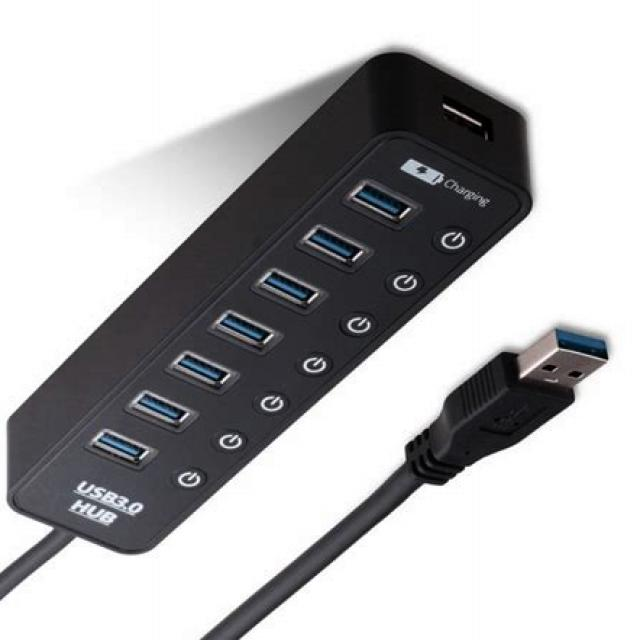usb port: (423, 94, 507, 147), (352, 180, 411, 230), (92, 429, 148, 477), (265, 272, 319, 320), (170, 352, 224, 396), (217, 313, 271, 356), (133, 390, 187, 429), (310, 230, 356, 270)
